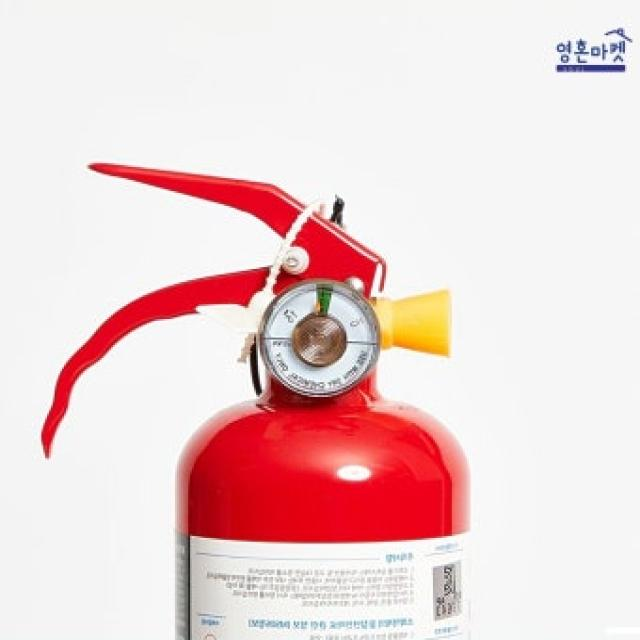pressure gauge: (258, 281, 380, 396)
